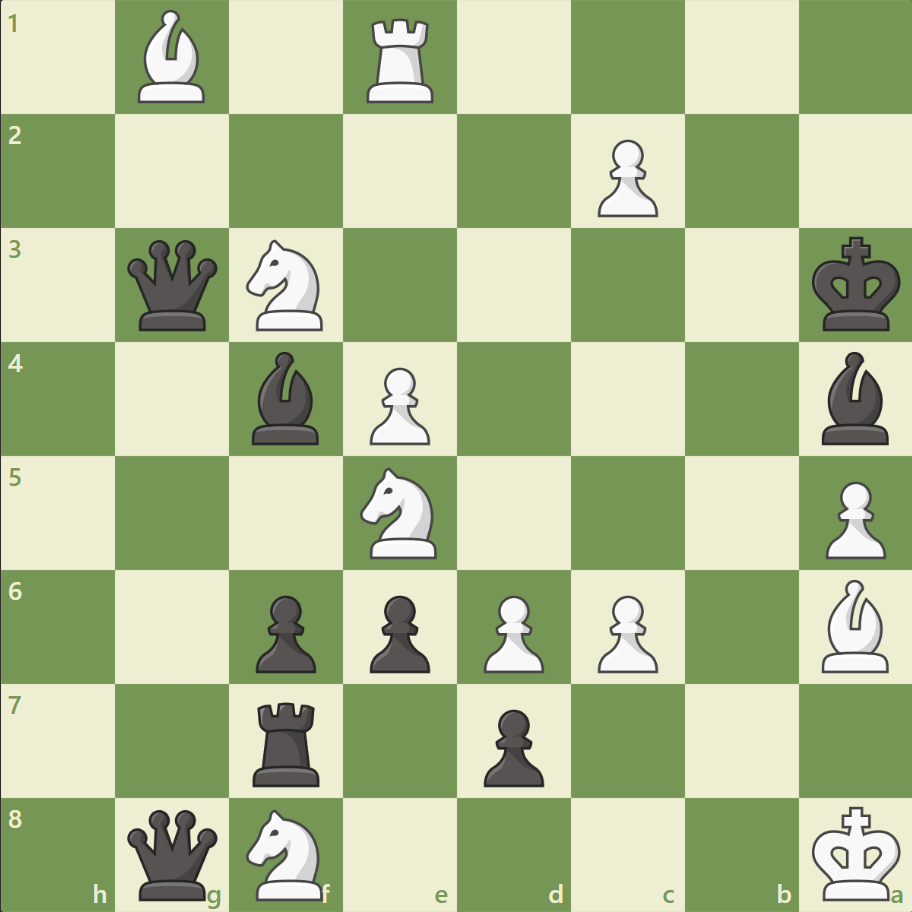B: (131, 6, 215, 109), (812, 574, 896, 676)
K: (806, 798, 906, 906)
N: (351, 461, 449, 564), (238, 234, 335, 337), (238, 802, 335, 904)
P: (474, 586, 549, 677), (588, 586, 662, 677), (815, 473, 889, 564), (361, 359, 435, 450), (588, 132, 662, 223)
R: (360, 12, 442, 109)
b: (812, 347, 896, 449), (244, 347, 328, 449)
k: (806, 231, 906, 339)
p: (474, 700, 549, 791), (247, 586, 322, 677), (361, 586, 435, 677)
q: (124, 804, 223, 903), (124, 236, 223, 335)
r: (246, 693, 329, 790)
